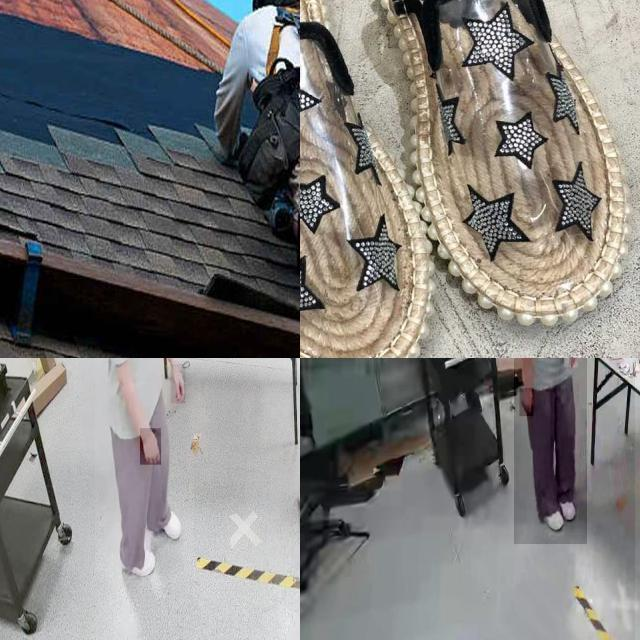Harness: (247, 7, 300, 210)
Sandals: (300, 0, 640, 358)
hand_noglove: (140, 428, 162, 466), (170, 364, 186, 404), (520, 388, 534, 417), (563, 358, 578, 368)
person: (95, 358, 194, 579), (514, 358, 587, 545)
shoes: (146, 494, 183, 545), (115, 540, 158, 582), (554, 480, 580, 530), (537, 492, 563, 535)
